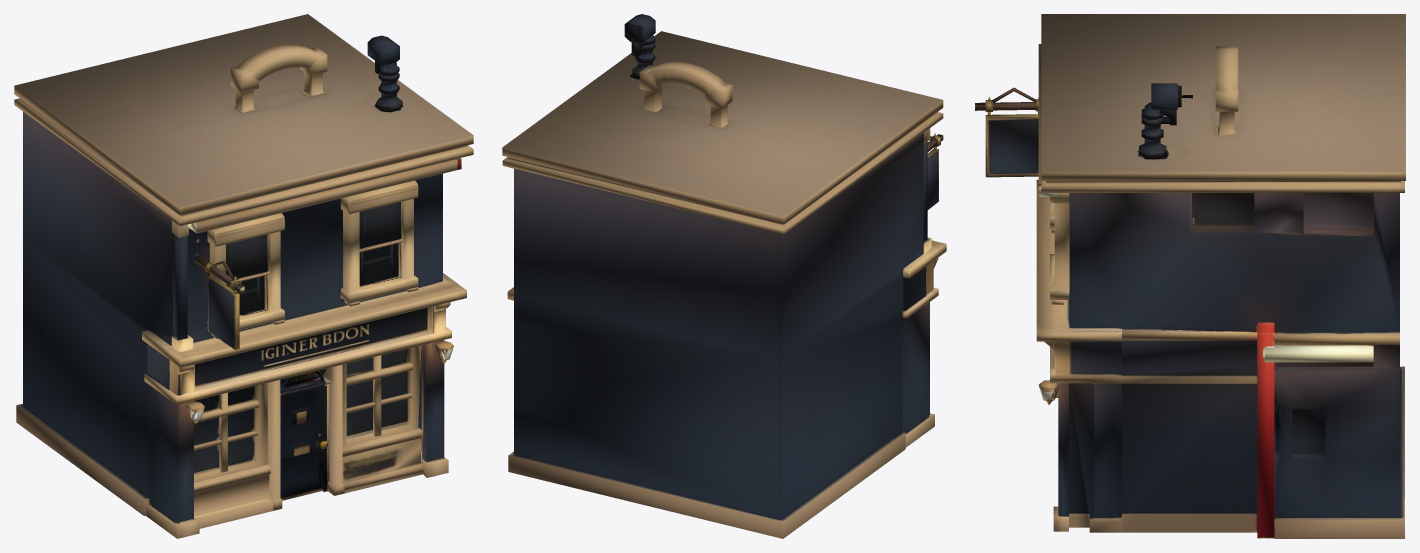
The model's file is pub+building+3d+model.glb.
3 views of the same model, side by side, from view 1: azimuth 30°, elevation 25°; view 2: azimuth 150°, elevation 25°; view 3: azimuth 270°, elevation 25° (orthographic). The views are drawn at different scales.
Visible parts, largest first — view 1: tripo_node_f5201d72-b91a-49aa-bfd8-cbfebea29f2b; view 2: tripo_node_f5201d72-b91a-49aa-bfd8-cbfebea29f2b; view 3: tripo_node_f5201d72-b91a-49aa-bfd8-cbfebea29f2b.
Boxes of the visible parts, <box> form: tripo_node_f5201d72-b91a-49aa-bfd8-cbfebea29f2b: <box>14,14,473,538</box>; tripo_node_f5201d72-b91a-49aa-bfd8-cbfebea29f2b: <box>502,14,946,538</box>; tripo_node_f5201d72-b91a-49aa-bfd8-cbfebea29f2b: <box>975,14,1405,538</box>.
Bounding box in the file's own units: 0.7793 × 0.998 × 0.8887.
Materials: 1 (1 with a texture image).
